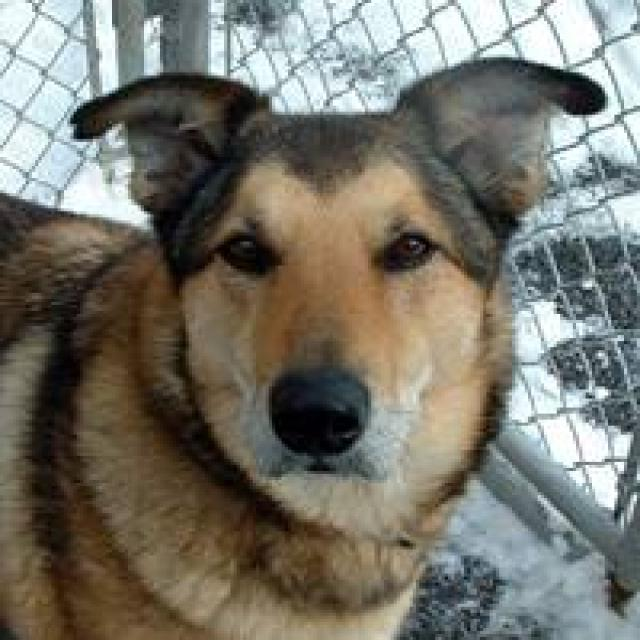dog: (0, 54, 608, 637)
